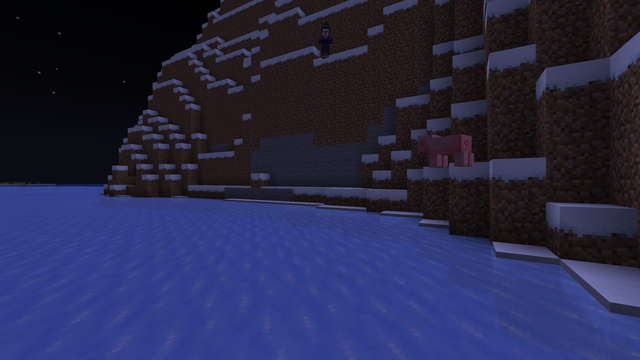cochons: (430, 132, 465, 167)
sorcieres: (319, 26, 330, 58)
